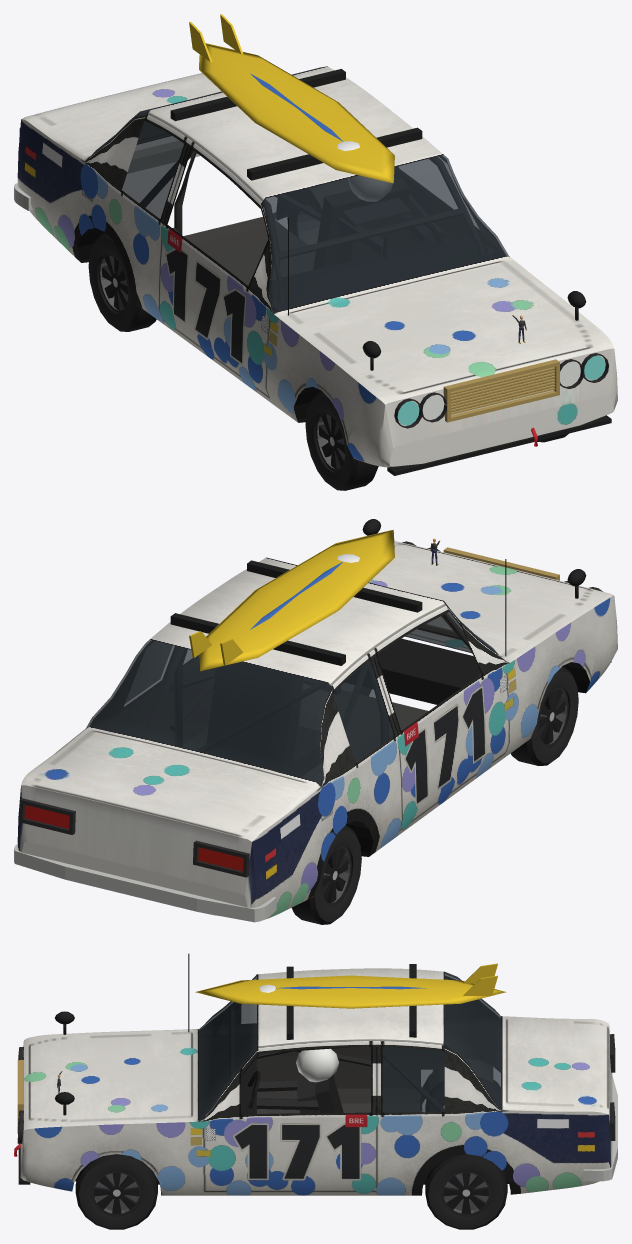
The picture shows the model from 3 angles, top to bottom: view 1: azimuth 30°, elevation 25°; view 2: azimuth 150°, elevation 25°; view 3: azimuth 270°, elevation 25°; orthographic projection. The views are drawn at different scales.
Parts seen in each view (by area): view 1: body, wheel_fr, wheel_rr, wheel_rl; view 2: body, wheel_rr, wheel_fr; view 3: body, wheel_fl, wheel_rl, wheel_rr.
Part boxes in pixels (x1,y1,x2,y2): body: [14, 14, 617, 475]; wheel_fr: [305, 391, 378, 490]; wheel_rr: [88, 233, 156, 331]; wheel_rl: [287, 188, 321, 244]; body: [14, 519, 617, 922]; wheel_rr: [292, 825, 361, 924]; wheel_fr: [510, 666, 578, 765]; body: [14, 953, 617, 1195]; wheel_fl: [75, 1154, 157, 1229]; wheel_rl: [425, 1154, 507, 1229]; wheel_rr: [425, 1077, 500, 1111].
Size of the model in its own units: 1.61 by 1.66 by 4.18.
2 materials, 1 textured.
